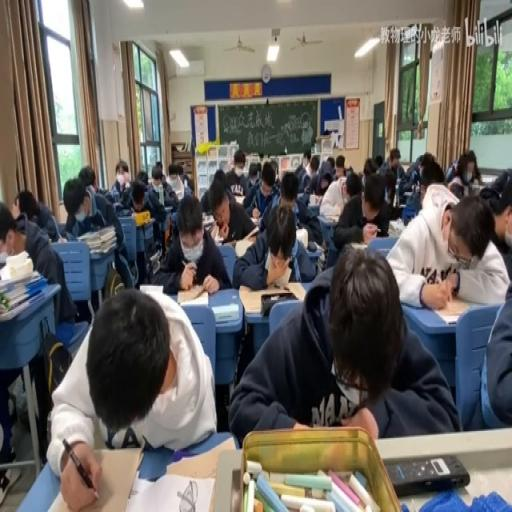calculator: (128, 469, 216, 509), (0, 253, 50, 322), (162, 434, 235, 480), (239, 280, 304, 313), (427, 296, 472, 323), (177, 286, 206, 304), (212, 302, 238, 322), (138, 283, 164, 296), (294, 224, 308, 248), (210, 220, 224, 244), (387, 218, 404, 236), (132, 209, 150, 226), (148, 248, 160, 273), (468, 180, 486, 194), (309, 194, 323, 208), (349, 240, 368, 250), (202, 213, 214, 226), (295, 189, 307, 202), (322, 213, 338, 222), (480, 175, 498, 183), (232, 193, 246, 202), (0, 250, 7, 268), (403, 189, 415, 199), (157, 185, 163, 205), (222, 239, 236, 247), (250, 216, 260, 225), (162, 203, 172, 212), (398, 202, 406, 209)
paper: (232, 246, 456, 440), (48, 286, 218, 509), (384, 182, 507, 307), (64, 172, 130, 293), (152, 194, 229, 294), (462, 270, 510, 428), (233, 199, 315, 289), (332, 168, 395, 254), (14, 186, 62, 242), (408, 154, 447, 208), (477, 169, 512, 220), (445, 150, 478, 198), (147, 165, 179, 212), (223, 148, 248, 196), (304, 155, 330, 195), (110, 158, 133, 200), (278, 171, 298, 206), (386, 148, 406, 181), (78, 165, 98, 196), (176, 160, 193, 190), (344, 169, 360, 199), (0, 213, 14, 247), (246, 162, 260, 188), (292, 160, 306, 184), (362, 158, 377, 176), (267, 158, 278, 179), (131, 192, 144, 209), (136, 168, 149, 183), (334, 154, 344, 170), (415, 155, 424, 171), (373, 154, 382, 169), (326, 155, 334, 169), (154, 161, 162, 169)
person: (386, 452, 470, 496), (308, 240, 318, 250)
